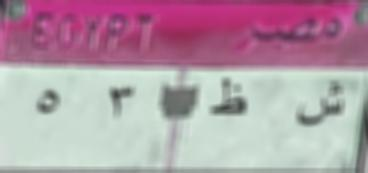3: (104, 81, 143, 126)
5: (31, 84, 66, 120)
Thaa: (208, 76, 251, 123)
sheen: (294, 78, 347, 133)
